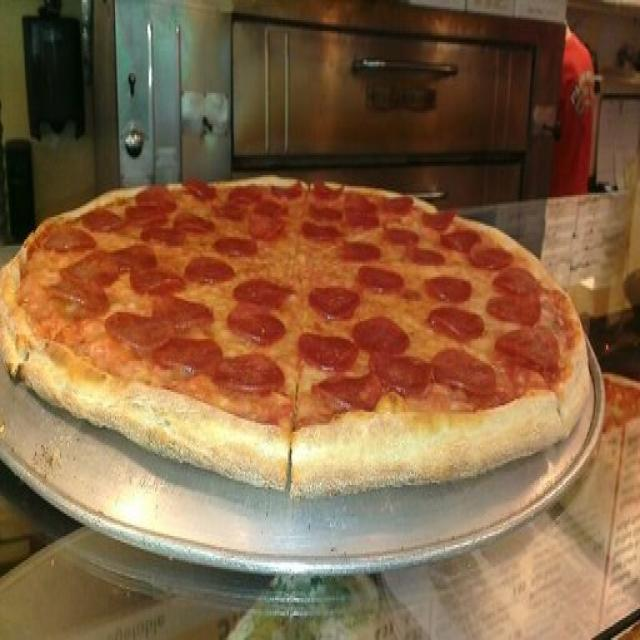Cheese: (270, 248, 327, 271)
Pepperoni: (493, 325, 560, 381), (432, 345, 497, 399), (368, 346, 430, 398), (212, 356, 288, 395), (311, 373, 383, 414), (106, 312, 172, 348), (229, 308, 289, 345), (184, 251, 239, 291), (296, 329, 355, 365), (232, 278, 298, 310), (485, 291, 543, 327), (354, 317, 409, 354), (307, 284, 362, 319), (61, 249, 117, 283), (430, 308, 486, 342), (52, 278, 103, 313), (422, 270, 473, 304), (358, 259, 403, 296), (492, 264, 544, 296), (252, 199, 290, 241), (160, 338, 216, 366), (154, 297, 212, 322), (130, 263, 180, 291), (302, 214, 345, 245), (210, 234, 260, 260), (406, 242, 447, 273), (50, 226, 96, 253), (82, 211, 126, 238), (338, 240, 382, 266), (123, 199, 168, 224), (473, 242, 513, 270), (381, 219, 422, 246), (346, 205, 382, 233), (422, 208, 456, 237), (144, 224, 184, 246), (113, 248, 156, 268), (137, 189, 177, 209), (272, 176, 305, 200), (175, 211, 212, 232), (344, 191, 379, 213), (442, 231, 482, 250), (229, 184, 266, 204), (309, 203, 346, 222), (211, 203, 247, 222), (313, 178, 343, 200), (381, 194, 414, 214), (187, 186, 215, 199)
Pizza: (0, 175, 594, 500)
